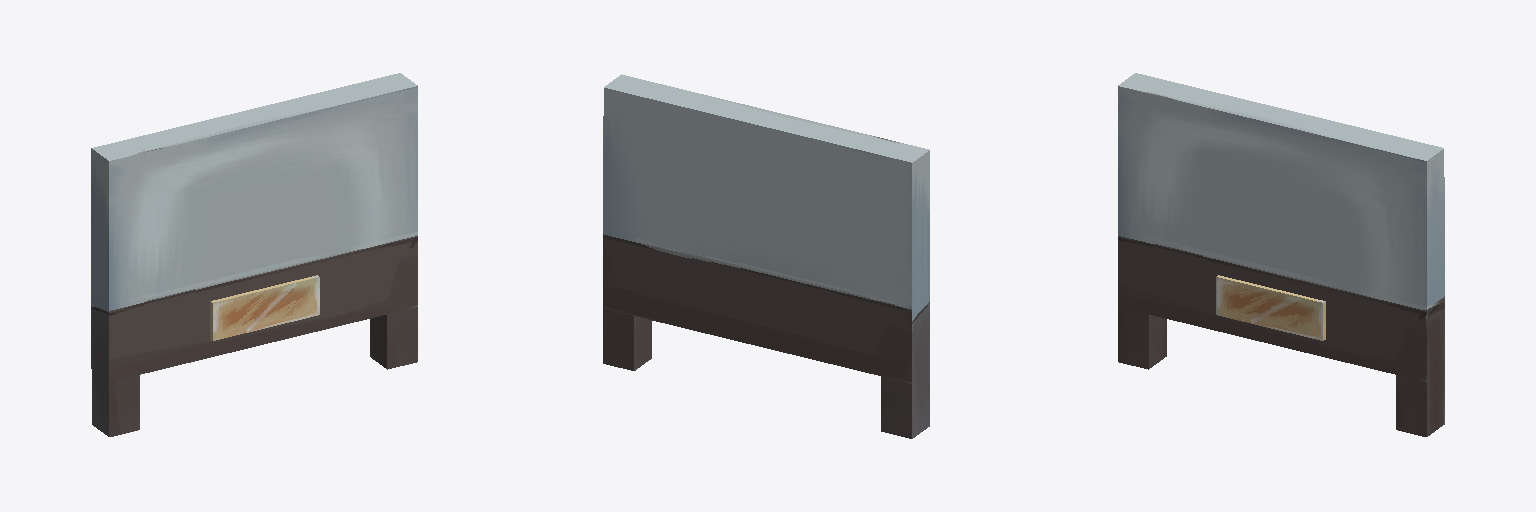
3 views of the same model, side by side, from view 1: azimuth 30°, elevation 25°; view 2: azimuth 150°, elevation 25°; view 3: azimuth 330°, elevation 25° (orthographic).
Visible parts, largest first — view 1: Cube_Material; view 2: Cube_Material; view 3: Cube_Material.
Part boxes in pixels (x1,y1,x2,y2): Cube_Material: (91,73,417,436); Cube_Material: (603,74,929,438); Cube_Material: (1118,73,1444,436).
Bounding box in the file's own units: 8 × 6.84 × 0.9039.
1 materials, 1 textured.